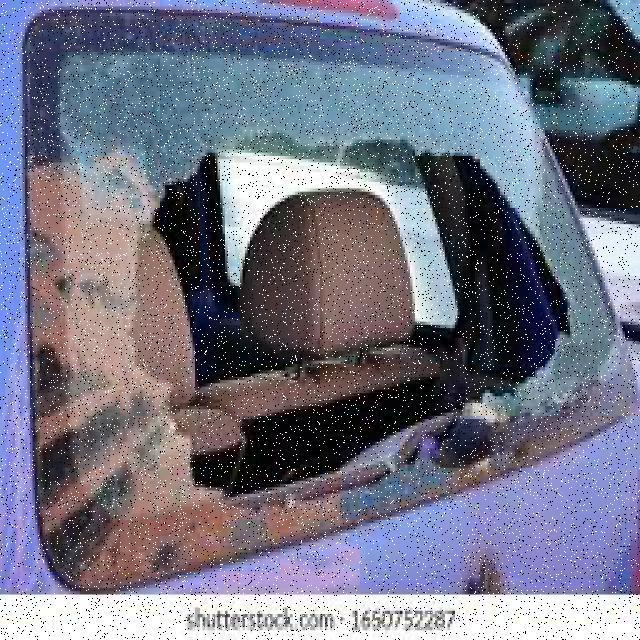Rear-windscreen-Damage: (0, 0, 638, 595)
